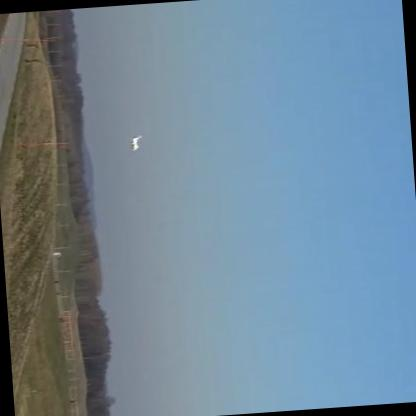plane: (128, 135, 146, 152)
